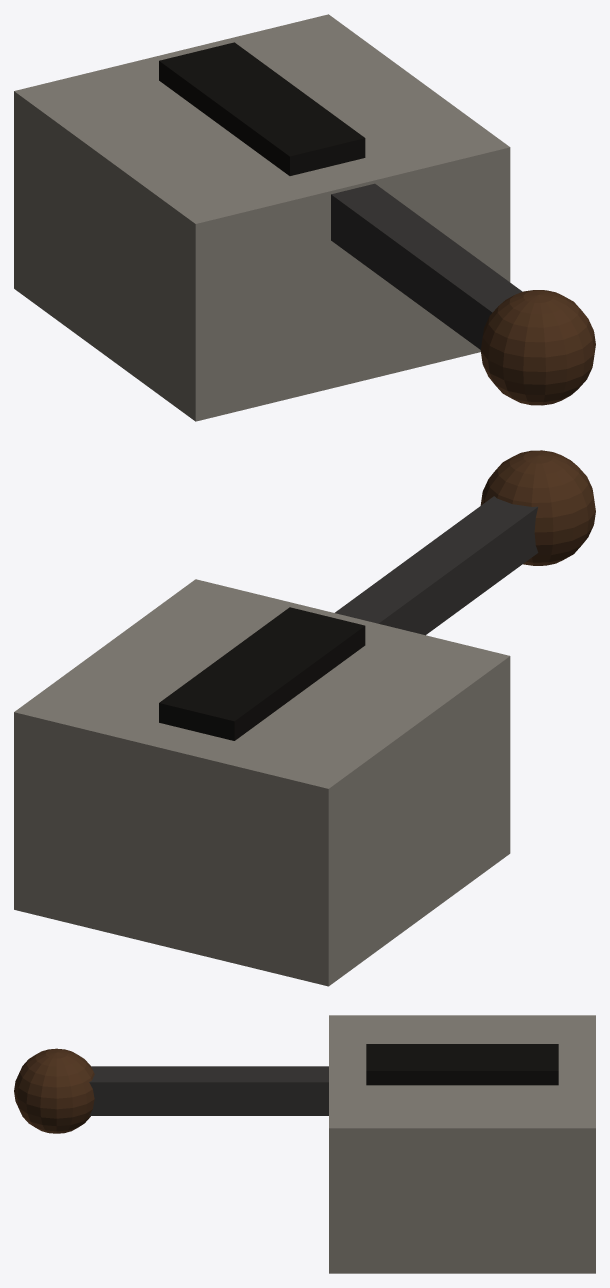
The model's file is lever-down.e1cf3285.glb.
3 renders of one model, top to bottom at view 1: azimuth 30°, elevation 25°; view 2: azimuth 150°, elevation 25°; view 3: azimuth 270°, elevation 25°, orthographic. The views are drawn at different scales.
Parts seen in each view (by area): view 1: body, swing; view 2: body, swing; view 3: body, swing.
Part boxes in pixels (bbox=[...]): body: bbox=[14, 14, 510, 421]; swing: bbox=[331, 183, 595, 405]; body: bbox=[14, 579, 510, 986]; swing: bbox=[335, 450, 595, 635]; body: bbox=[329, 1015, 595, 1273]; swing: bbox=[14, 1048, 328, 1133].
Bounding box in the file's own units: 0.5 × 0.34 × 1.09.
